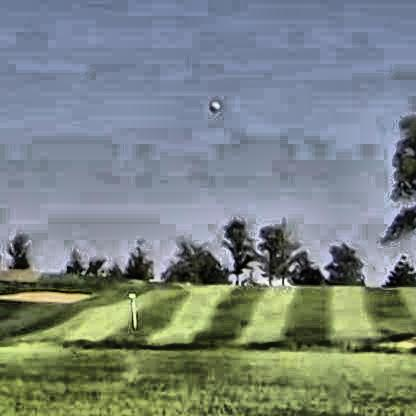golfball: (206, 98, 217, 109)
